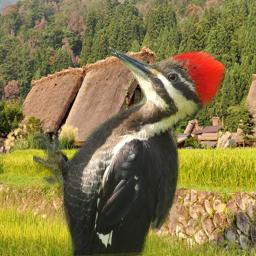Woodpecker: (33, 46, 225, 256)
